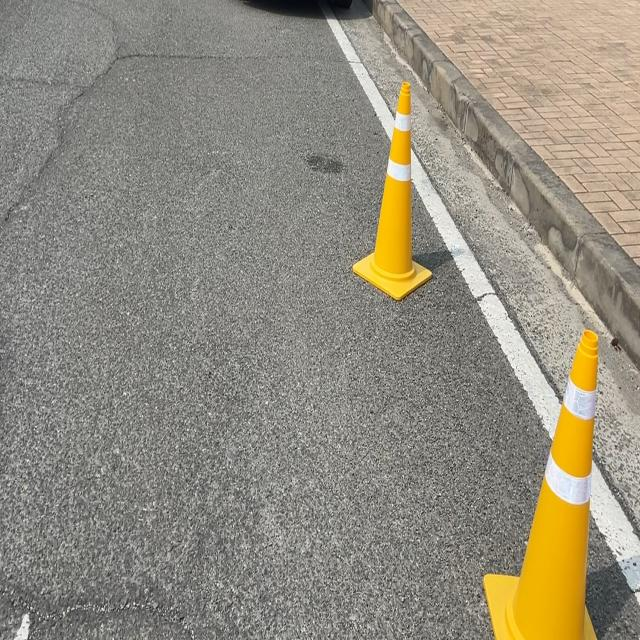y_rub: (484, 329, 599, 640), (353, 80, 432, 299)
